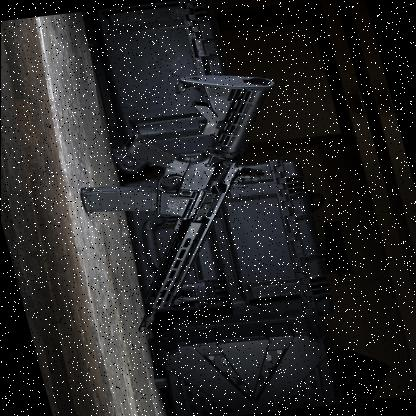rifle: (0, 26, 260, 308)
